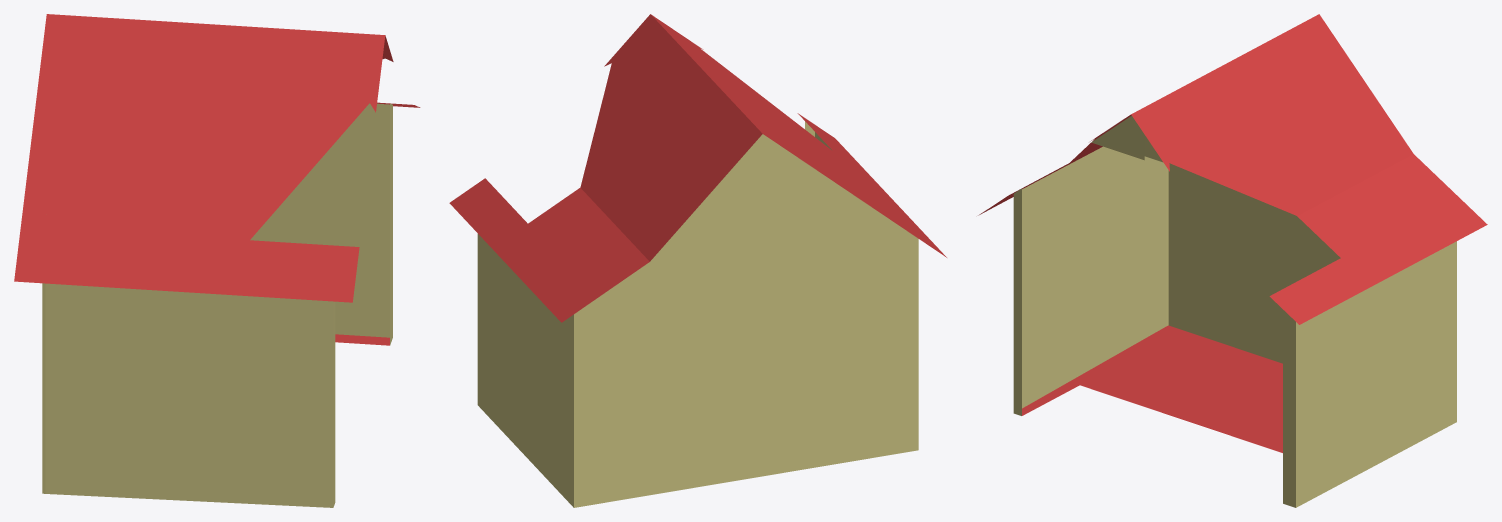
3 views of the same model, side by side, from view 1: azimuth 30°, elevation 25°; view 2: azimuth 150°, elevation 25°; view 3: azimuth 270°, elevation 25° (orthographic). The views are drawn at different scales.
Bounding box in the file's own units: 22.62 × 23.43 × 17.7.
